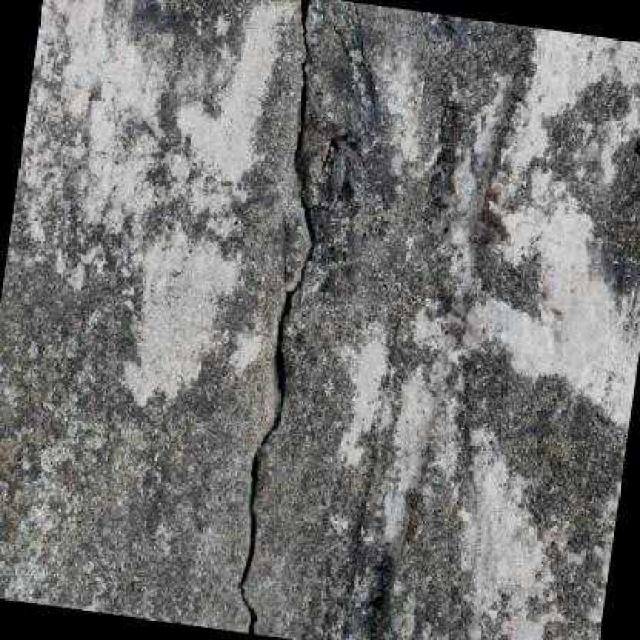D00: (234, 0, 319, 634)
